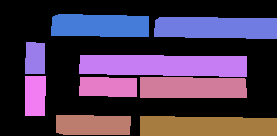parkingspot: (79, 55, 246, 76), (140, 116, 277, 135), (154, 17, 277, 38), (51, 14, 148, 36), (140, 77, 246, 97), (56, 115, 130, 134), (79, 77, 136, 96), (25, 76, 45, 115), (25, 42, 44, 73)
